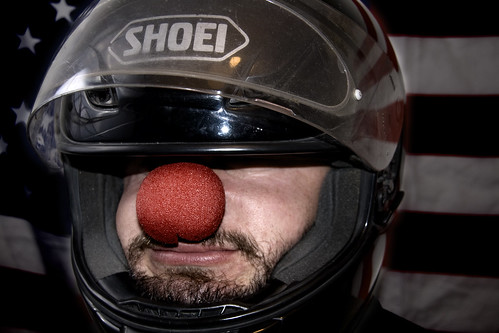helmet: (30, 0, 408, 169)
